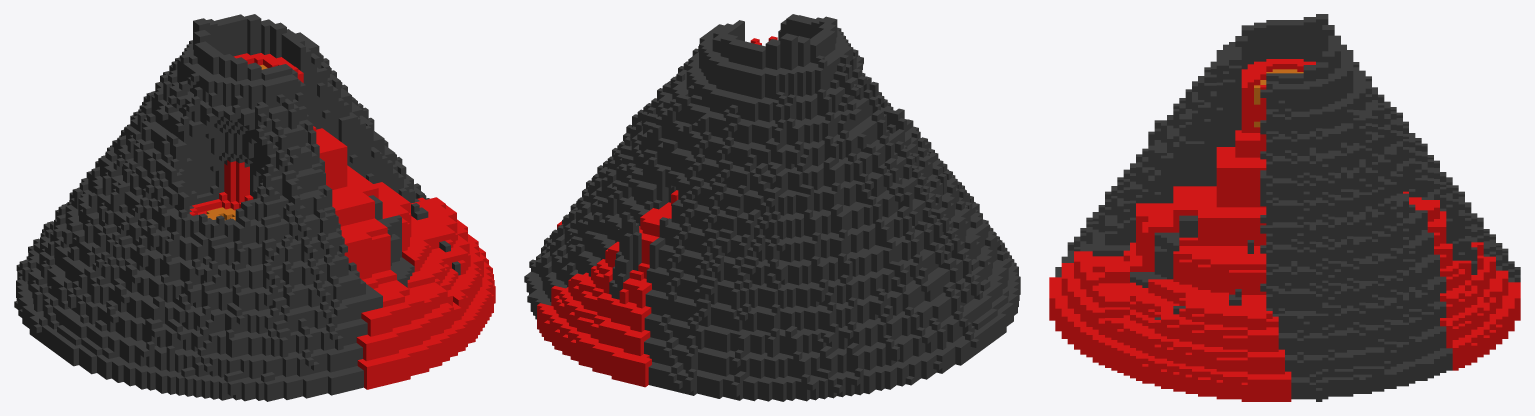
Rendered from volcano.obj.
The picture shows the model from 3 angles, left to right: view 1: azimuth 30°, elevation 25°; view 2: azimuth 150°, elevation 25°; view 3: azimuth 270°, elevation 25°; orthographic projection. The views are drawn at different scales.
Parts seen in each view (by area): view 1: volcano; view 2: volcano; view 3: volcano.
Boxes of the visible parts, x1=… form: volcano: x1=14, y1=14, x2=495, y2=401; volcano: x1=524, y1=14, x2=1020, y2=401; volcano: x1=1049, y1=14, x2=1520, y2=401.
Size of the model in its own units: 76 by 48 by 76.
Materials: 1 (1 with a texture image).
